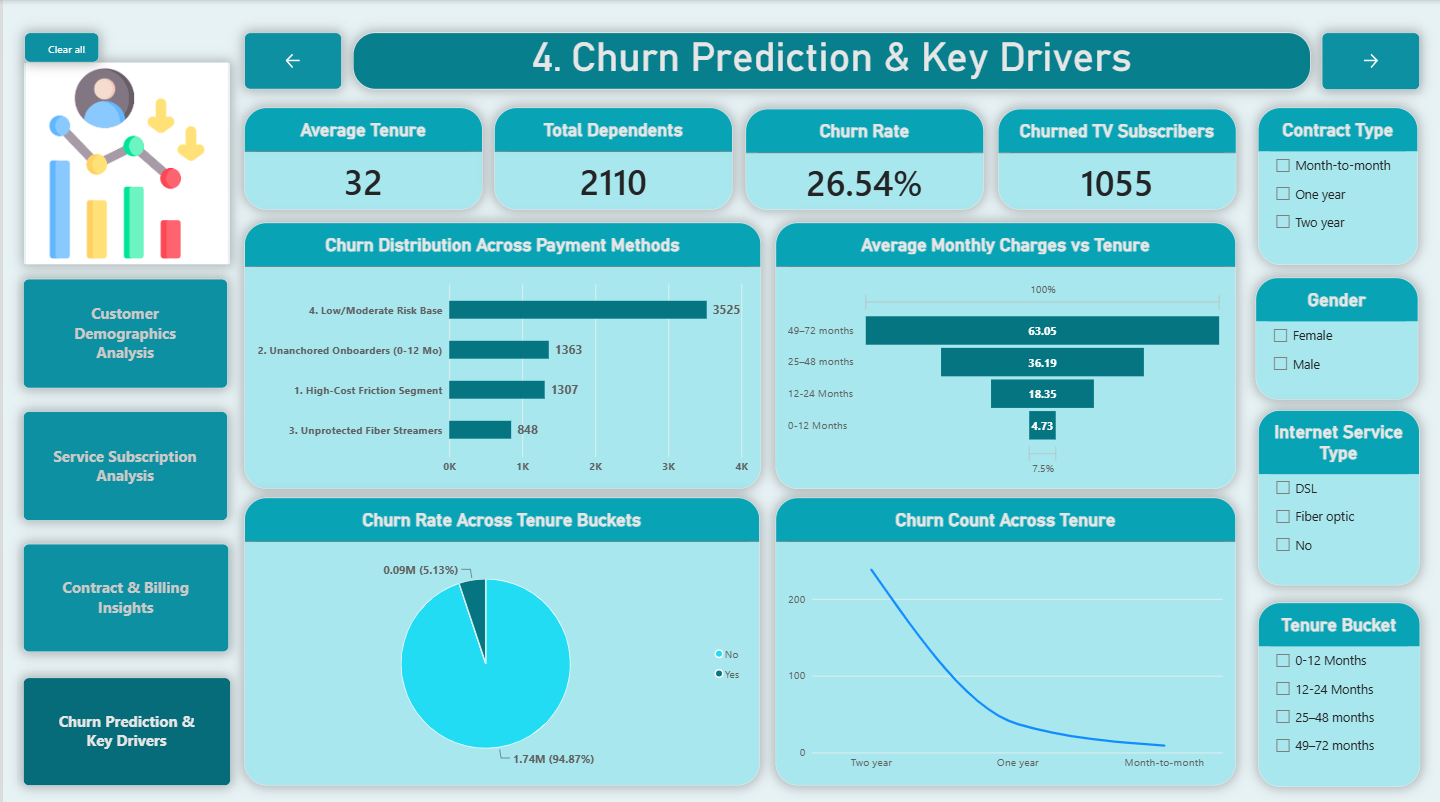

The page's visual inventory and layout, read from the dashboard file:
{"tool":"powerbi","page":{"name":"Churn Prediction & Key Drivers","canvas":[1920,1080],"ordinal":14},"visuals":[{"type":"textbox","title":"4. Churn Prediction & Key Drivers","box":[467.4,42.8,1279.4,76.4],"z":0},{"type":"slicer","title":"Gender","fields":{"Values":["WA_Fn-UseC_-Telco-Customer-Churn.gender"]},"box":[1672.8,369.9,217.5,163.6],"z":1000},{"type":"slicer","title":"Contract Type","fields":{"Values":["WA_Fn-UseC_-Telco-Customer-Churn.Contract"]},"box":[1676.5,143.1,213.7,210],"z":2000},{"type":"slicer","title":"Internet Service Type","fields":{"Values":["WA_Fn-UseC_-Telco-Customer-Churn.InternetService"]},"box":[1676.5,548.3,215.6,234.2],"z":3000},{"type":"slicer","title":"Tenure Bucket","fields":{"Values":["WA_Fn-UseC_-Telco-Customer-Churn.Tenure_Bucket"]},"box":[1676,804.5,216.8,246.2],"z":4000},{"type":"image","box":[27.9,83.6,275.1,269.5],"z":5000},{"type":"pageNavigator","box":[27.1,548.8,273.3,146.8],"z":6000},{"type":"pageNavigator","box":[27.1,727.2,275.5,144.5],"z":7000},{"type":"pageNavigator","box":[27.1,905.6,277.8,144.5],"z":8000},{"type":"pageNavigator","box":[27.1,372.6,273.3,146.8],"z":9000},{"type":"actionButton","box":[322.2,42.8,130.4,76.4],"z":10000},{"type":"actionButton","box":[1761.5,42.9,131,76.8],"z":11000},{"type":"actionButton","box":[27.9,42.8,100,40],"z":12000},{"type":"card","title":"Average Tenure","fields":{"Values":["WA_Fn-UseC_-Telco-Customer-Churn.Average_Tenure"]},"box":[321.8,143.8,318.2,136.6],"z":13000},{"type":"card","title":"Total Dependents","fields":{"Values":["WA_Fn-UseC_-Telco-Customer-Churn.Total_Dependents"]},"box":[656.2,143.8,318.2,136.6],"z":14000},{"type":"card","title":"Churn Rate","fields":{"Values":["WA_Fn-UseC_-Telco-Customer-Churn.Churn_Rate"]},"box":[992.4,145.6,318.2,134.8],"z":15000},{"type":"card","title":"Churned TV Subscribers","fields":{"Values":["WA_Fn-UseC_-Telco-Customer-Churn.StreamingTV_Churn"]},"box":[1328.5,145.6,318.2,134.8],"z":16000},{"type":"barChart","title":"Churn Distribution Across Payment Methods","fields":{"Category":["WA_Fn-UseC_-Telco-Customer-Churn.Customer_Segment"],"Y":["CountNonNull(WA_Fn-UseC_-Telco-Customer-Churn.Customer_Segment)"]},"box":[321.8,296.6,690.3,356],"z":17000},{"type":"pieChart","title":"Churn Rate Across Tenure Buckets","fields":{"Category":["WA_Fn-UseC_-Telco-Customer-Churn.Churn"],"Y":["WA_Fn-UseC_-Telco-Customer-Churn.Total_Charges_Sum"]},"box":[321.8,665.2,688.5,384.7],"z":18000},{"type":"lineChart","title":"Churn Count Across Tenure","fields":{"Category":["WA_Fn-UseC_-Telco-Customer-Churn.Contract"],"Y":["CountNonNull(WA_Fn-UseC_-Telco-Customer-Churn.tenure)"]},"box":[1031.9,665.2,614.8,384.7],"z":19000},{"type":"funnel","title":"Average Monthly Charges vs Tenure","fields":{"Category":["WA_Fn-UseC_-Telco-Customer-Churn.Tenure_Bucket"],"Y":["WA_Fn-UseC_-Telco-Customer-Churn.Average_Tenure"]},"box":[1031.9,296.6,614.8,356],"z":20000}]}

Visuals, with their boxes in screenshot pixels (x1, y1, x2, y2), scaled from the page's 1920x1080 canvas onto the 1440x802 screenshot:
"4. Churn Prediction & Key Drivers" textbox: rect(351, 32, 1310, 89)
"Gender" slicer: rect(1255, 275, 1418, 396)
"Contract Type" slicer: rect(1257, 106, 1418, 262)
"Internet Service Type" slicer: rect(1257, 407, 1419, 581)
"Tenure Bucket" slicer: rect(1257, 597, 1420, 780)
image: rect(21, 62, 227, 262)
pageNavigator: rect(20, 408, 225, 517)
pageNavigator: rect(20, 540, 227, 647)
pageNavigator: rect(20, 672, 229, 780)
pageNavigator: rect(20, 277, 225, 386)
actionButton: rect(242, 32, 339, 89)
actionButton: rect(1321, 32, 1419, 89)
actionButton: rect(21, 32, 96, 61)
"Average Tenure" card: rect(241, 107, 480, 208)
"Total Dependents" card: rect(492, 107, 731, 208)
"Churn Rate" card: rect(744, 108, 983, 208)
"Churned TV Subscribers" card: rect(996, 108, 1235, 208)
"Churn Distribution Across Payment Methods" barChart: rect(241, 220, 759, 485)
"Churn Rate Across Tenure Buckets" pieChart: rect(241, 494, 758, 780)
"Churn Count Across Tenure" lineChart: rect(774, 494, 1235, 780)
"Average Monthly Charges vs Tenure" funnel: rect(774, 220, 1235, 485)
